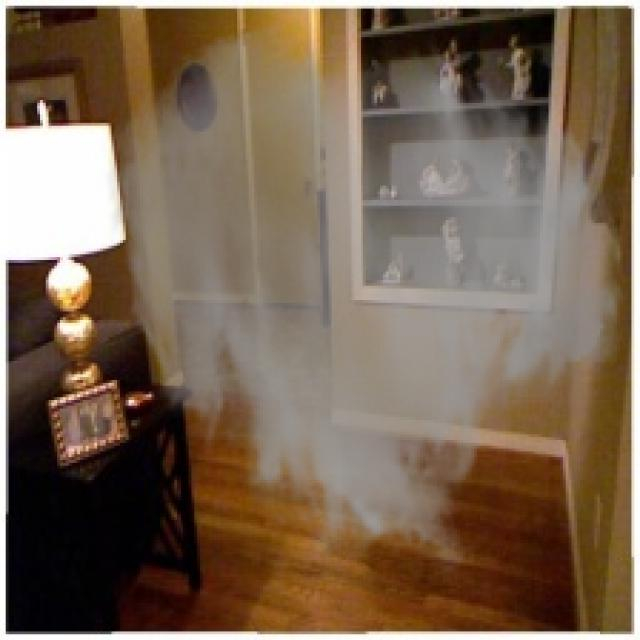smoke: (103, 23, 628, 577)
